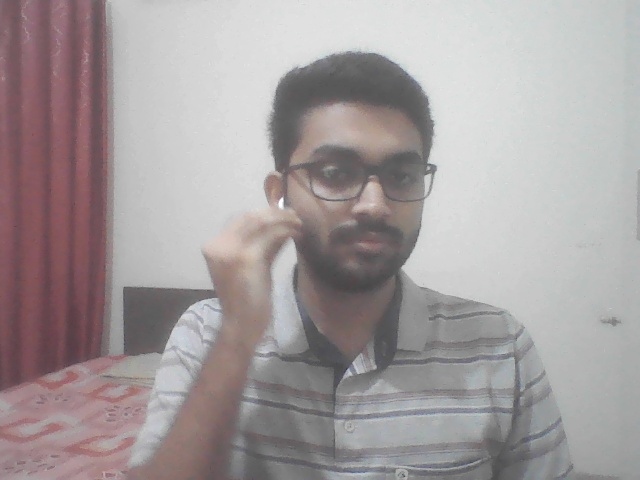home: (195, 200, 312, 367)
